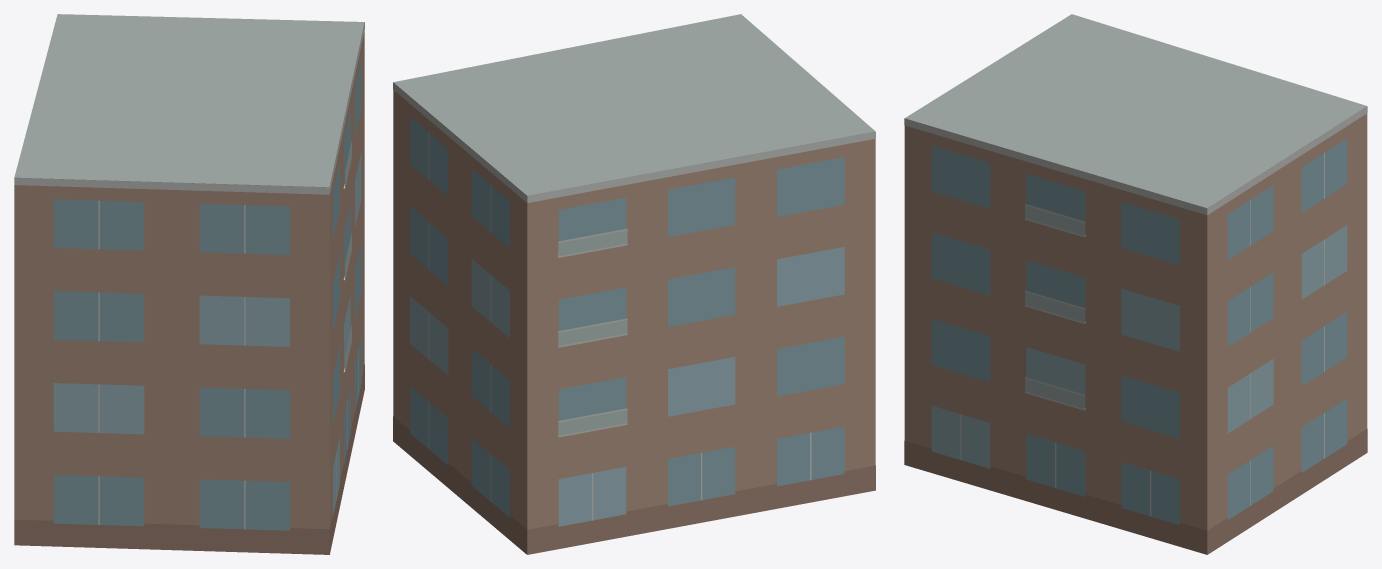
File: survey-upis-32929524.glb
3 views of the same model, side by side, from view 1: azimuth 30°, elevation 25°; view 2: azimuth 150°, elevation 25°; view 3: azimuth 270°, elevation 25° (orthographic). The views are drawn at different scales.
Parts seen in each view (by area): view 1: survey-upis-32929524.tmp; view 2: survey-upis-32929524.tmp; view 3: survey-upis-32929524.tmp.
Boxes of the visible parts, left/top/right/bottom form: survey-upis-32929524.tmp: left=14, top=14, right=364, bottom=554; survey-upis-32929524.tmp: left=393, top=14, right=875, bottom=554; survey-upis-32929524.tmp: left=904, top=14, right=1367, bottom=554.
Bounding box in the file's own units: 14.41 × 11.98 × 14.51.
